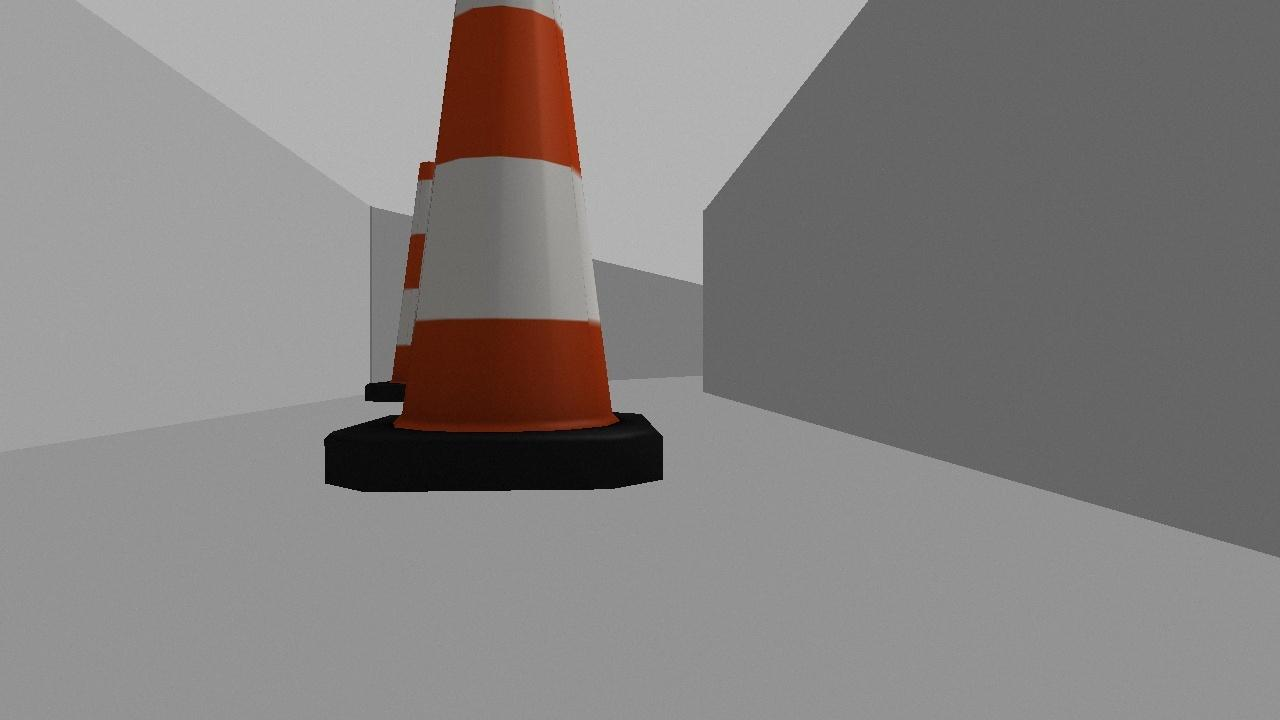cone_barrel: (321, 0, 663, 490), (362, 159, 474, 402)
